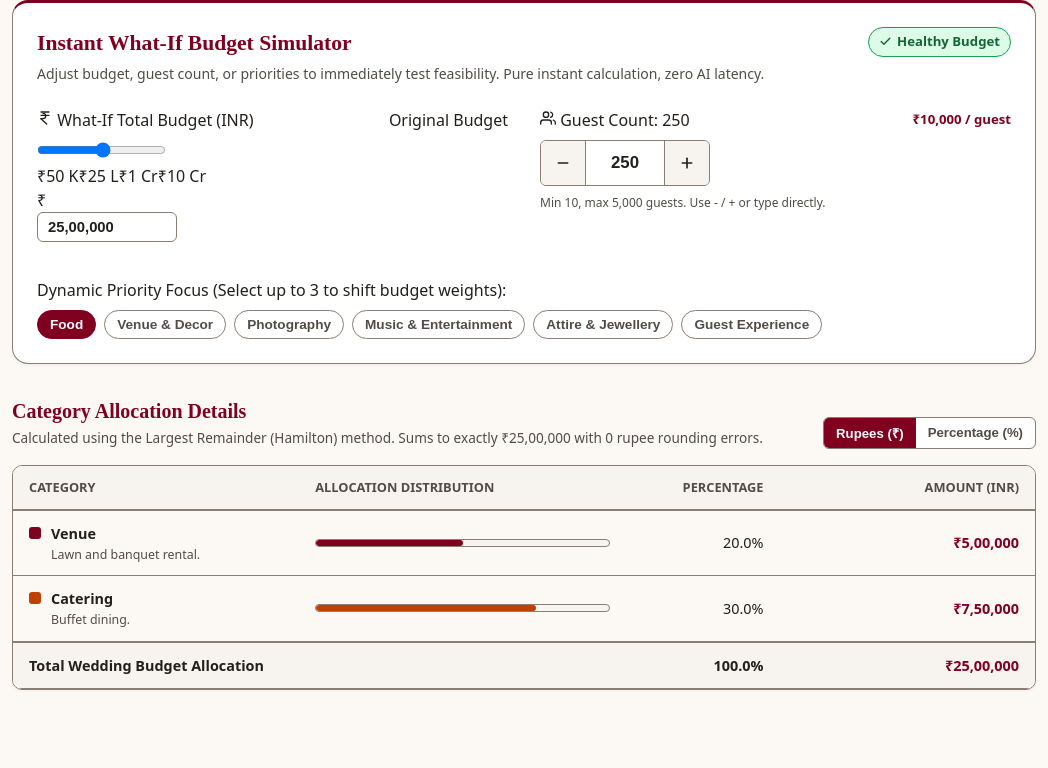
Test: BudgetTab Component › updates guest count when clicking stepper controls
Click the button named "increase guest count by 25" at (687, 163), box x1=665 y1=141 x2=709 y2=185
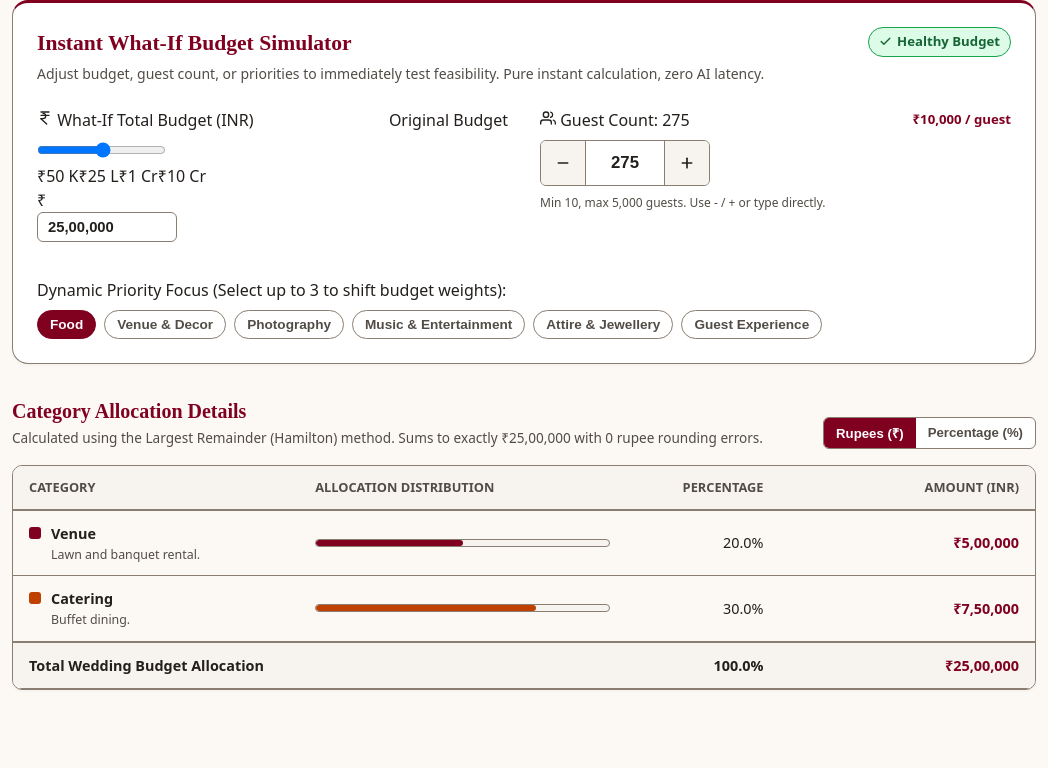
Expected: the text "275" is shown, x1=662 y1=109 x2=690 y2=131
